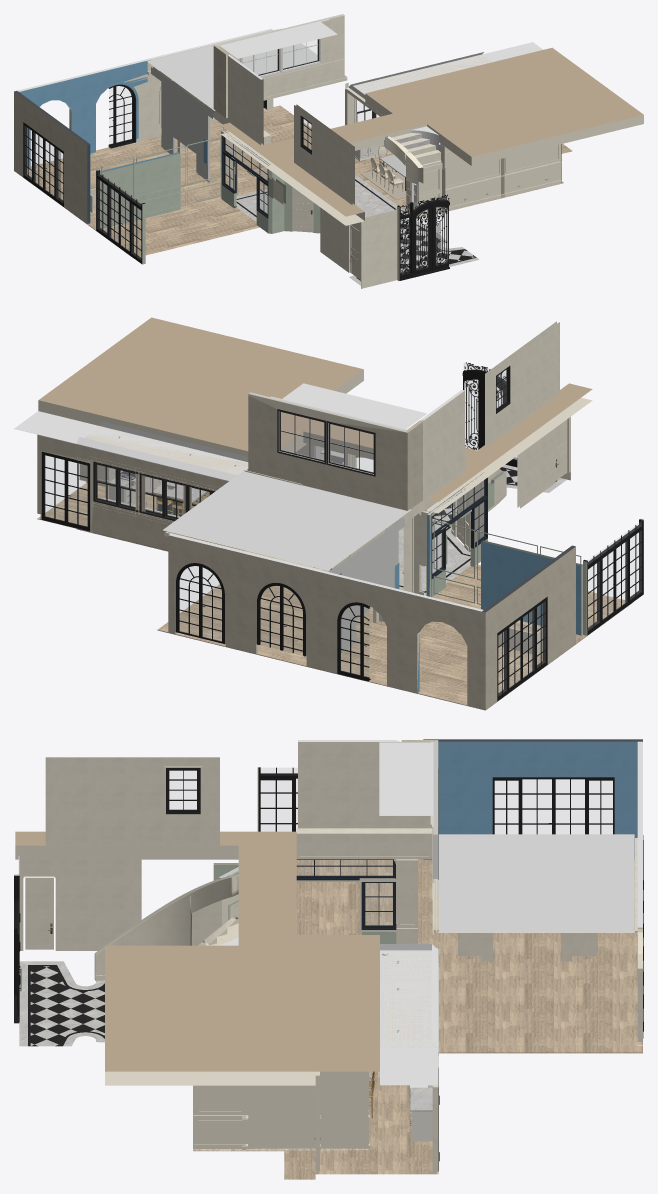
Rendered from kitchen-8ec97a81265d.glb.
3 renders of one model, top to bottom at view 1: azimuth 30°, elevation 25°; view 2: azimuth 150°, elevation 25°; view 3: azimuth 270°, elevation 25°, orthographic. The views are drawn at different scales.
Parts seen in each view (by area): view 1: kitchen-look-2575515a05775d9e, kitchen-look-3b0077416469e01b, kitchen-look-969b861f9850351e, kitchen-19647d6da46c2b80, kitchen-look-039192b0560cfac3, kitchen-look-b19b106fc304963c, kitchen-look-4a969f5cc1ae3dfe, kitchen-look-746250f96522f643, kitchen-look-55ff1dfd7b659ec1, kitchen-look-245f595ae2832e16, kitchen-look-d5a4a1b5d3594c04, kitchen-look-7f59123d155b94ce (+38 smaller); view 2: kitchen-look-2575515a05775d9e, kitchen-look-969b861f9850351e, kitchen-look-3b0077416469e01b, kitchen-look-4a969f5cc1ae3dfe, kitchen-look-245f595ae2832e16, kitchen-look-039192b0560cfac3, kitchen-look-746250f96522f643, kitchen-bfb9fa537cd11d1d, kitchen-49bdd6945a2d0056, kitchen-look-7f59123d155b94ce, kitchen-look-b19b106fc304963c, kitchen-look-55ff1dfd7b659ec1 (+39 smaller); view 3: kitchen-look-2575515a05775d9e, kitchen-look-3b0077416469e01b, kitchen-look-4a969f5cc1ae3dfe, kitchen-look-746250f96522f643, kitchen-look-039192b0560cfac3, kitchen-look-85f0fd939e0fcc78, kitchen-look-7f59123d155b94ce, kitchen-9a0e9ee9b2a451d7, kitchen-look-e388ad8855329420, kitchen-look-daececc498878d00, kitchen-5b6bbac285e58726, kitchen-look-9d91b47435c6fb33 (+28 smaller).
Part boxes in pixels (<box>): kitchen-look-2575515a05775d9e: <box>221,47,643,225</box>; kitchen-look-3b0077416469e01b: <box>14,105,572,257</box>; kitchen-look-969b861f9850351e: <box>17,28,273,168</box>; kitchen-19647d6da46c2b80: <box>444,144,560,207</box>; kitchen-look-039192b0560cfac3: <box>14,91,90,223</box>; kitchen-look-b19b106fc304963c: <box>100,152,180,228</box>; kitchen-look-4a969f5cc1ae3dfe: <box>147,28,346,110</box>; kitchen-look-746250f96522f643: <box>294,104,354,205</box>; kitchen-look-55ff1dfd7b659ec1: <box>151,67,214,180</box>; kitchen-look-245f595ae2832e16: <box>213,14,344,108</box>; kitchen-look-d5a4a1b5d3594c04: <box>361,209,397,288</box>; kitchen-look-7f59123d155b94ce: <box>228,54,263,144</box>; kitchen-look-2575515a05775d9e: <box>38,317,592,513</box>; kitchen-look-969b861f9850351e: <box>168,533,483,708</box>; kitchen-look-3b0077416469e01b: <box>37,479,632,710</box>; kitchen-look-4a969f5cc1ae3dfe: <box>163,471,410,570</box>; kitchen-look-245f595ae2832e16: <box>248,392,407,510</box>; kitchen-look-039192b0560cfac3: <box>481,545,575,709</box>; kitchen-look-746250f96522f643: <box>485,321,559,445</box>; kitchen-bfb9fa537cd11d1d: <box>76,444,246,551</box>; kitchen-49bdd6945a2d0056: <box>76,421,248,480</box>; kitchen-look-7f59123d155b94ce: <box>419,390,464,511</box>; kitchen-look-b19b106fc304963c: <box>481,540,582,635</box>; kitchen-look-55ff1dfd7b659ec1: <box>328,517,404,653</box>; kitchen-look-2575515a05775d9e: <box>15,831,379,1085</box>; kitchen-look-3b0077416469e01b: <box>284,859,642,1179</box>; kitchen-look-4a969f5cc1ae3dfe: <box>438,834,634,932</box>; kitchen-look-746250f96522f643: <box>45,757,219,845</box>; kitchen-look-039192b0560cfac3: <box>423,739,642,859</box>; kitchen-look-85f0fd939e0fcc78: <box>19,859,141,950</box>; kitchen-look-7f59123d155b94ce: <box>298,740,401,828</box>; kitchen-9a0e9ee9b2a451d7: <box>380,950,438,1047</box>; kitchen-look-e388ad8855329420: <box>30,966,104,1046</box>; kitchen-look-daececc498878d00: <box>296,828,432,859</box>; kitchen-5b6bbac285e58726: <box>247,1085,315,1150</box>; kitchen-look-9d91b47435c6fb33: <box>379,742,432,815</box>.
Size of the model in its own units: 20.84 by 6.36 by 16.8.
72 materials, 15 textured.
